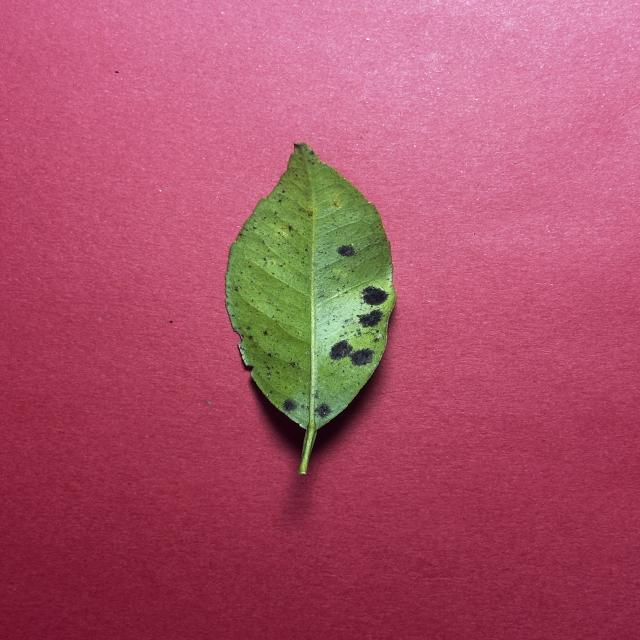sooty_mold: (225, 143, 396, 473)
